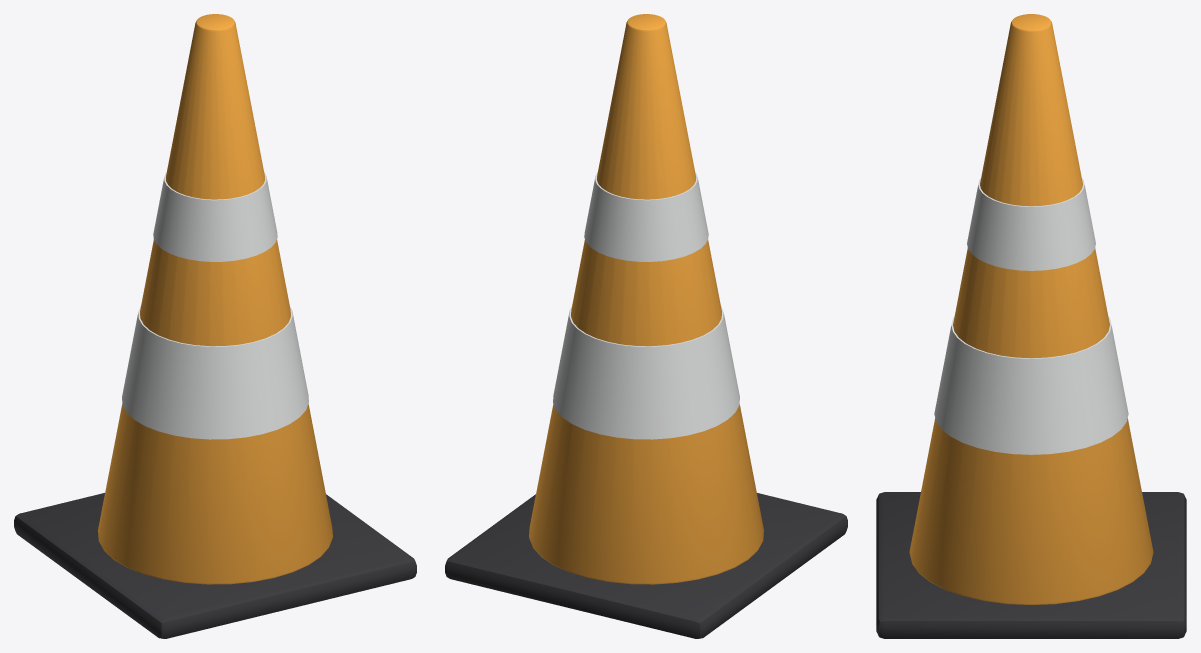
File: SER-EPC-003.glb
The picture shows the model from 3 angles, left to right: view 1: azimuth 30°, elevation 25°; view 2: azimuth 150°, elevation 25°; view 3: azimuth 270°, elevation 25°; orthographic projection. The views are drawn at different scales.
Parts seen in each view (by area): view 1: SER-EPC-003_cone, SER-EPC-003_base, SER-EPC-003_faixa0, SER-EPC-003_faixa1; view 2: SER-EPC-003_cone, SER-EPC-003_base, SER-EPC-003_faixa0, SER-EPC-003_faixa1; view 3: SER-EPC-003_cone, SER-EPC-003_base, SER-EPC-003_faixa0, SER-EPC-003_faixa1.
Part boxes in pixels (x1,y1,x2,y2): SER-EPC-003_cone: (98, 14, 332, 584); SER-EPC-003_base: (14, 493, 416, 638); SER-EPC-003_faixa0: (122, 306, 308, 439); SER-EPC-003_faixa1: (153, 172, 277, 261); SER-EPC-003_cone: (529, 14, 763, 584); SER-EPC-003_base: (445, 493, 847, 638); SER-EPC-003_faixa0: (553, 306, 739, 439); SER-EPC-003_faixa1: (584, 172, 708, 261); SER-EPC-003_cone: (909, 14, 1153, 604); SER-EPC-003_base: (876, 492, 1186, 638); SER-EPC-003_faixa0: (934, 316, 1128, 454); SER-EPC-003_faixa1: (967, 178, 1095, 270).
Size of the model in its own units: 0.38 by 0.75 by 0.38.
